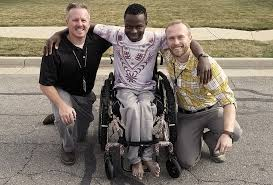Person: (161, 20, 246, 170), (37, 1, 109, 166), (106, 3, 166, 177)
